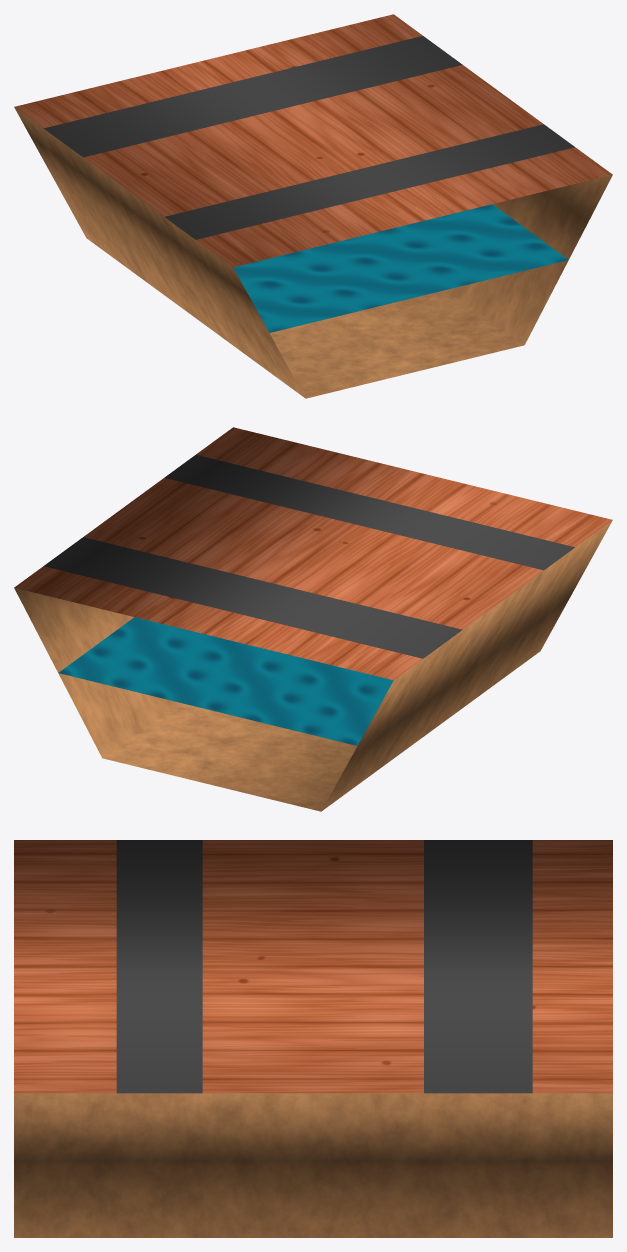
File: moat_bridge1.glb
The picture shows the model from 3 angles, top to bottom: view 1: azimuth 30°, elevation 25°; view 2: azimuth 150°, elevation 25°; view 3: azimuth 270°, elevation 25°; orthographic projection. The views are drawn at different scales.
Parts seen in each view (by area): view 1: ground; view 2: ground; view 3: ground.
Part boxes in pixels (left/top/right/bottom): ground: left=14, top=14, right=612, bottom=398; ground: left=14, top=427, right=612, bottom=811; ground: left=14, top=840, right=612, bottom=1237.
Bounding box in the file's own units: 2 × 0.75 × 2.
Materials: 4 (3 with a texture image).
